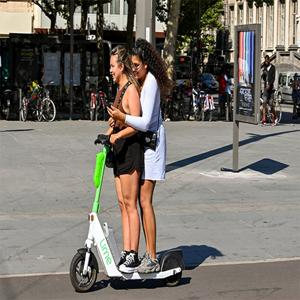human on a scooter: (69, 38, 185, 294)
